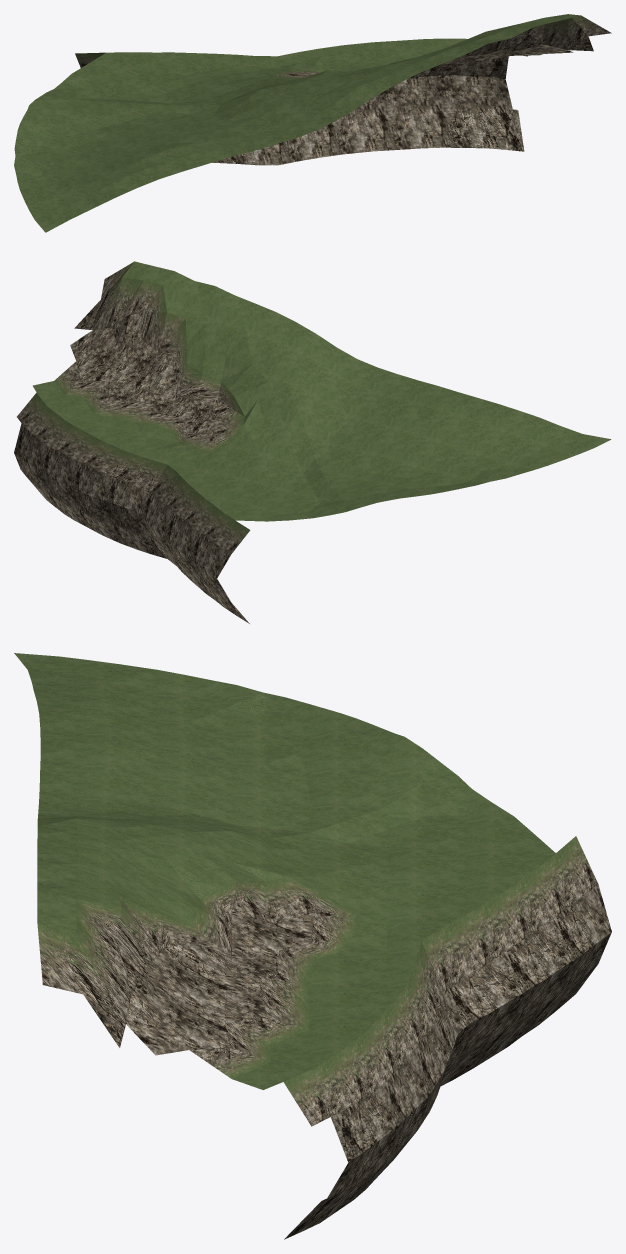
File: a_carisle_mid_landmass_01_02.fbx
3 views of the same model, one above another, from view 1: azimuth 30°, elevation 25°; view 2: azimuth 150°, elevation 25°; view 3: azimuth 270°, elevation 25° (orthographic). The views are drawn at different scales.
Visible parts, largest first — view 1: a_carisle_mid_landmass_01_02; view 2: a_carisle_mid_landmass_01_02; view 3: a_carisle_mid_landmass_01_02.
Part boxes in pixels (x1,y1,x2,y2): a_carisle_mid_landmass_01_02: [14, 14, 611, 232]; a_carisle_mid_landmass_01_02: [14, 261, 611, 623]; a_carisle_mid_landmass_01_02: [14, 653, 611, 1239].
Bounding box in the file's own units: 60.55 × 37.02 × 20.31.
